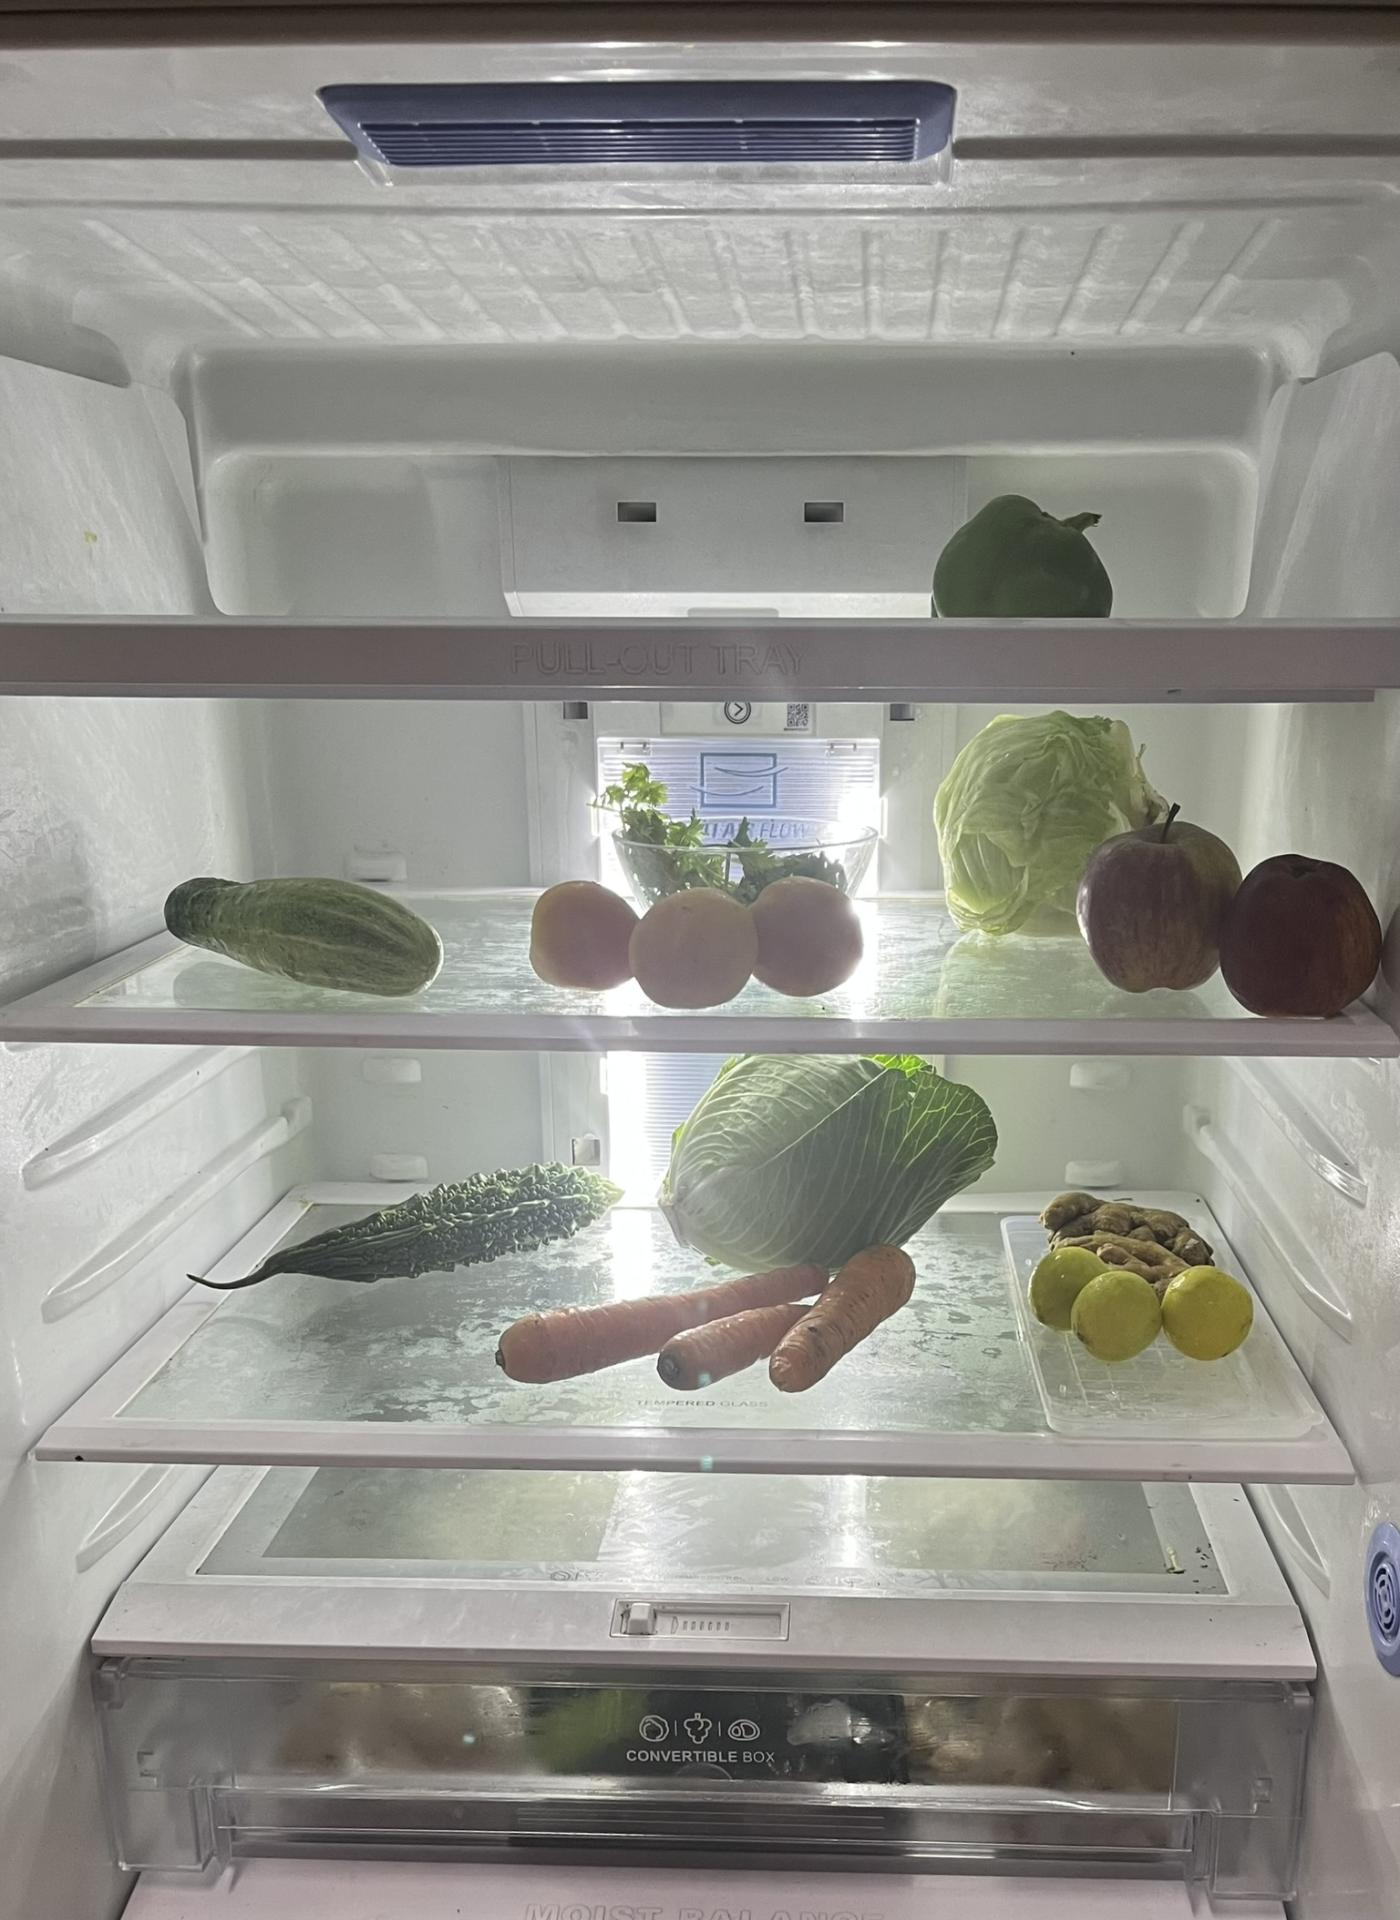apple: (1076, 814, 1373, 1021)
cabbage: (658, 1057, 997, 1280)
capsicum: (932, 501, 1114, 611)
carrots: (499, 1254, 920, 1386)
coriander: (608, 763, 859, 882)
cucumber: (168, 877, 440, 1000)
ginger: (1047, 1182, 1221, 1275)
lemon: (1041, 1242, 1258, 1361)
lettuce: (939, 717, 1151, 945)
tomato: (523, 871, 859, 1008)
